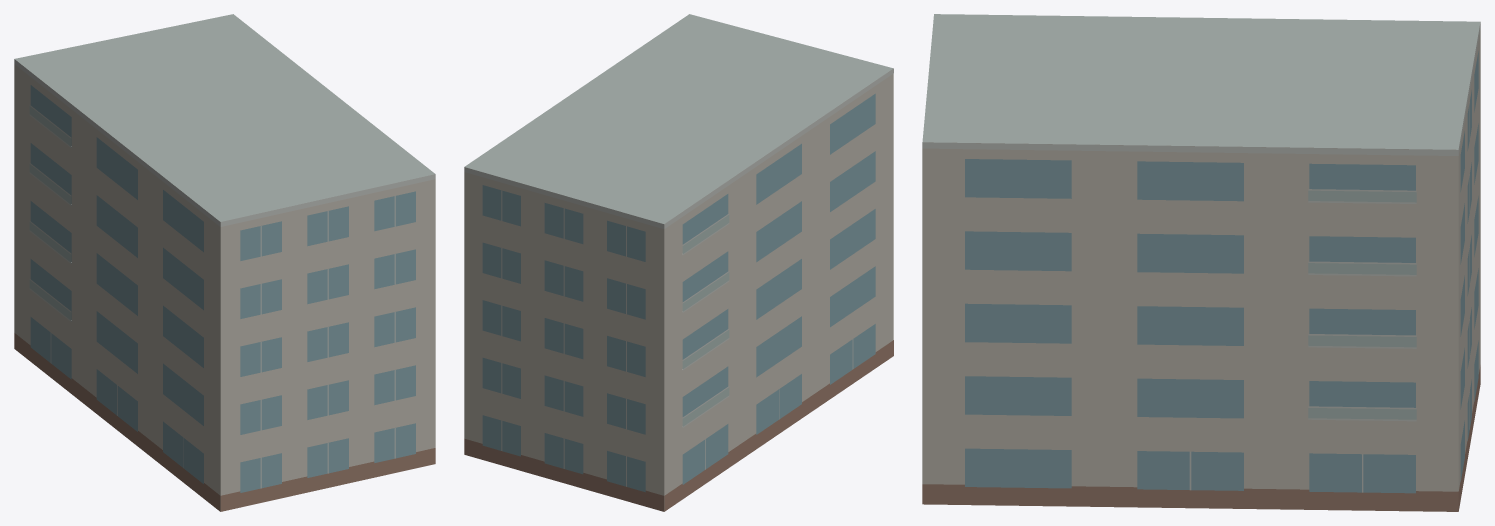
File: survey-upis-32743137.glb
3 views of the same model, side by side, from view 1: azimuth 30°, elevation 25°; view 2: azimuth 150°, elevation 25°; view 3: azimuth 270°, elevation 25° (orthographic). The views are drawn at different scales.
Visible parts, largest first — view 1: survey-upis-32743137.tmp; view 2: survey-upis-32743137.tmp; view 3: survey-upis-32743137.tmp.
Part boxes in pixels (left/top/right/bottom): survey-upis-32743137.tmp: left=14, top=14, right=435, bottom=511; survey-upis-32743137.tmp: left=464, top=14, right=893, bottom=511; survey-upis-32743137.tmp: left=922, top=14, right=1480, bottom=511.
Bounding box in the file's own units: 11.31 × 14.05 × 19.64.
